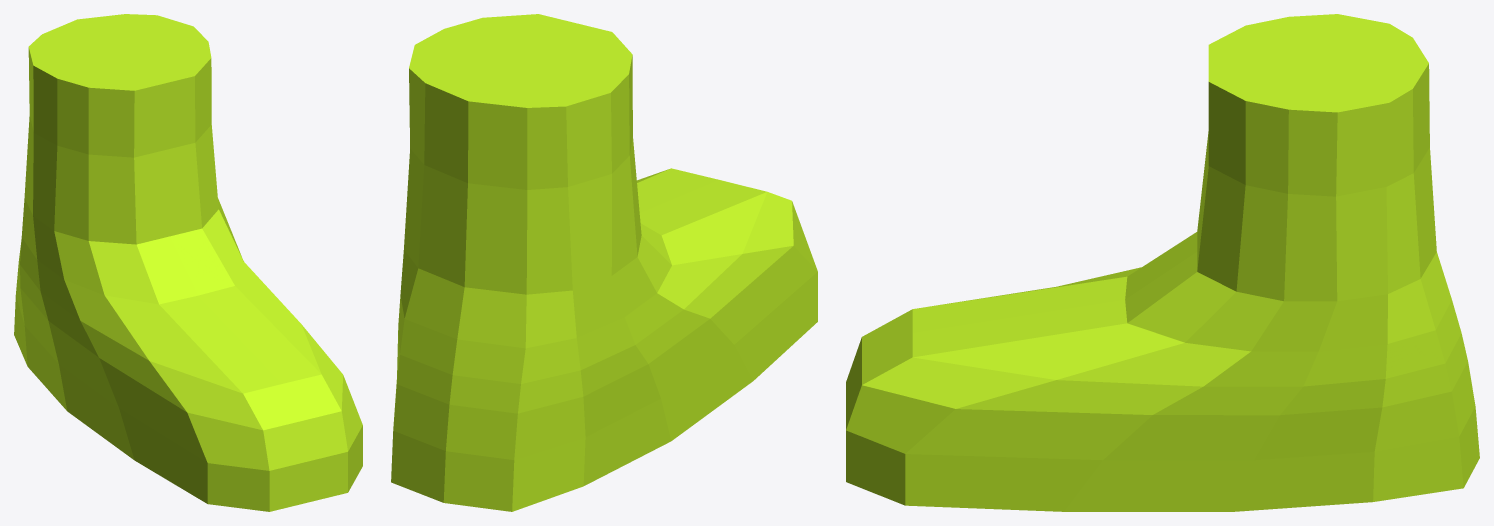
File: Boots.fbx Ganz gelblch.fbx
3 renders of one model, left to right at view 1: azimuth 30°, elevation 25°; view 2: azimuth 150°, elevation 25°; view 3: azimuth 270°, elevation 25°, orthographic. The views are drawn at different scales.
Visible parts, largest first — view 1: Boot; view 2: Boot; view 3: Boot.
Boxes of the visible parts, x1,y1,x2,y2 form: Boot: (14, 14, 362, 511); Boot: (391, 14, 817, 511); Boot: (846, 14, 1479, 511).
Bounding box in the file's own units: 96.19 × 164 × 238.
